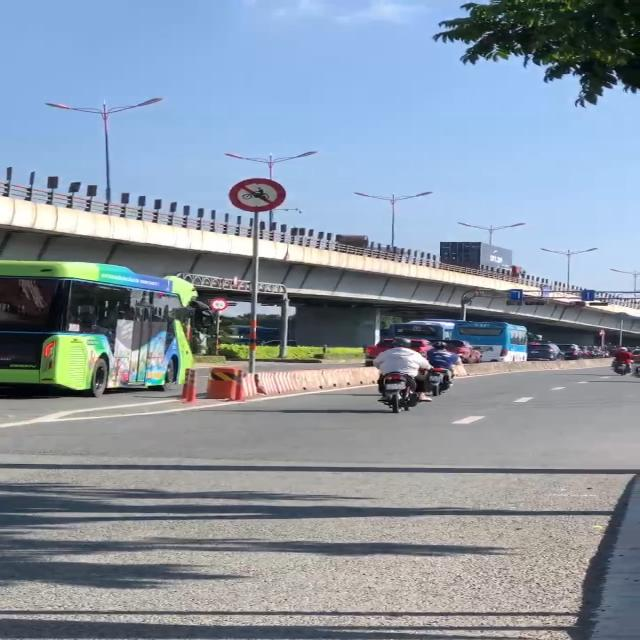Bien bao cam xe may: (226, 178, 302, 214)
